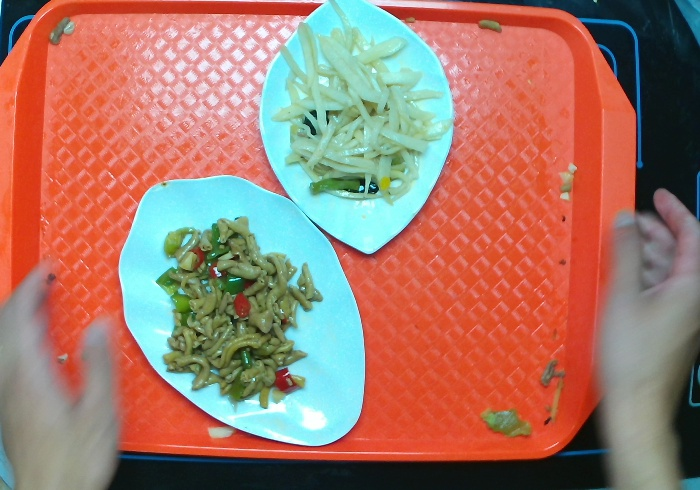RJxy-Bai_Ye_Pan: (111, 167, 369, 454)
RJxy-Da_Du_Pan: (252, 3, 462, 261)
